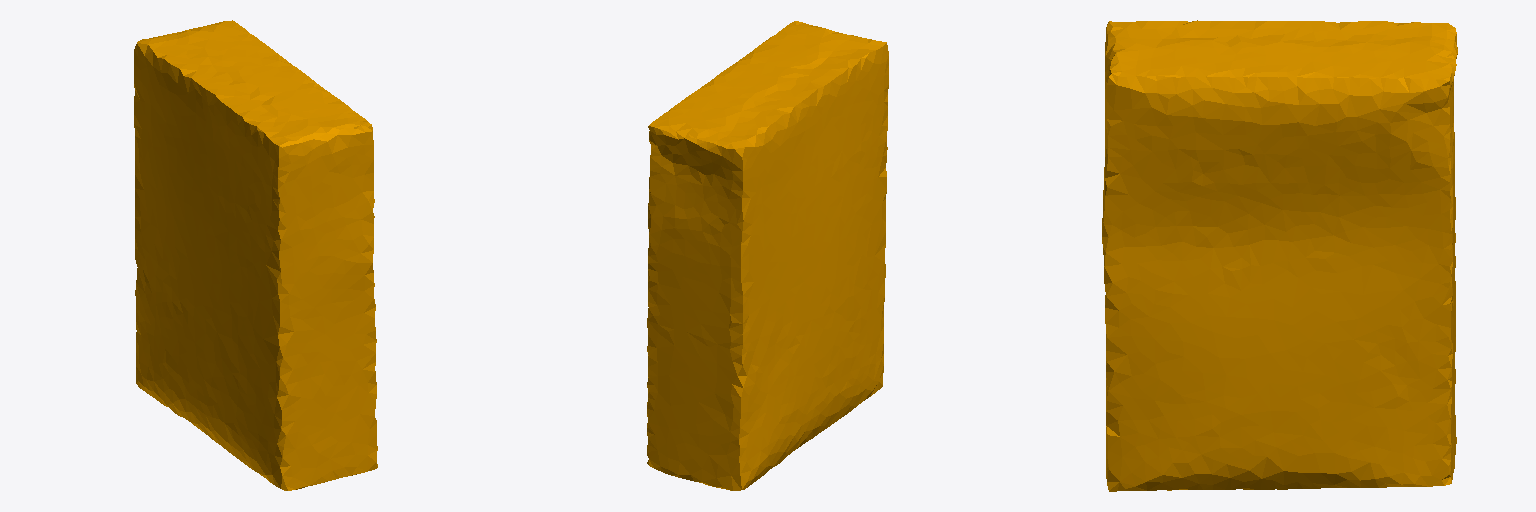
URDF robot description (cheezeIt):
<?xml version="1.0" encoding="UTF-8"?>
<robot name="cheezeIt">
	<link name="base">
		<collision>
			<geometry>
				<mesh filename="cheezeIt.obj"/>
			</geometry>
			<origin xyz="0 0 0"/>
		</collision>
		<visual>
			<geometry>
				<mesh filename="cheezeIt.obj"/>
			</geometry>
			<origin xyz="0 0 0"/>
		</visual>
		<inertial>
			<mass value="0.03"/>
			<inertia ixx="0.0001746873718554869" ixy="-3.61530032237664e-08" ixz="1.1127370858441275e-06" iyy="0.00012267480568358509" iyz="3.9546060983113235e-07" izz="7.287031132501003e-05" />
			<origin xyz="-0.001964665004891749 -5.3929349532478703e-05 -0.0012786766340948824"/>
		</inertial>
	</link>
</robot>

--- Render facts (derived) ---
3 views of the same robot in one strip: view 1: azimuth 30°, elevation 25°; view 2: azimuth 150°, elevation 25°; view 3: azimuth 270°, elevation 25° (orthographic).
Robot: cheezeIt — 1 links, 0 joints (none); root link base; default pose: every joint at zero.
Visible links, largest first — view 1: base; view 2: base; view 3: base.
Link boxes in pixels (<box>): base: <box>134,20,377,490</box>; base: <box>647,21,888,490</box>; base: <box>1102,20,1457,491</box>.
Bounding box of the posed robot: 0.0717 × 0.1641 × 0.2134 m (x, y, z).
Meshes: 1 distinct files referenced, 1 mesh visuals loaded (1 OBJ).
